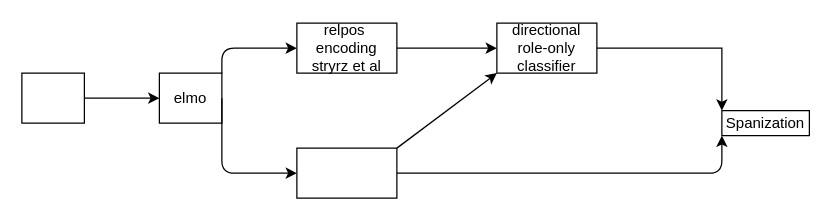
Image size: 831x220. Some labels were removed from this diagram. Each missing label, with the centre of its shape:
"Sentence" belongs at pixel 52 97.
"verb classifier" belongs at pixel 346 172.
